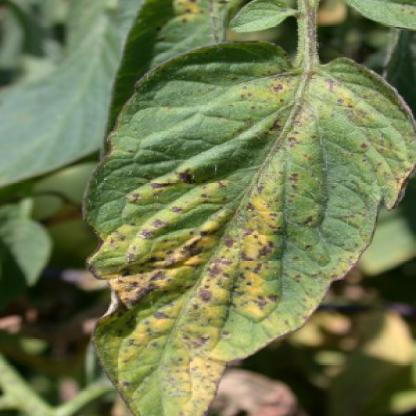Tomato leaf late blight: (86, 27, 408, 415)
